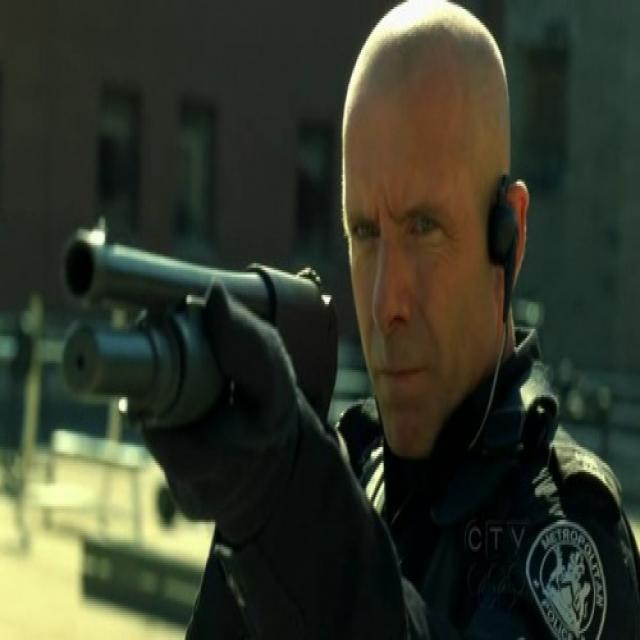rifle: (51, 204, 341, 433)
